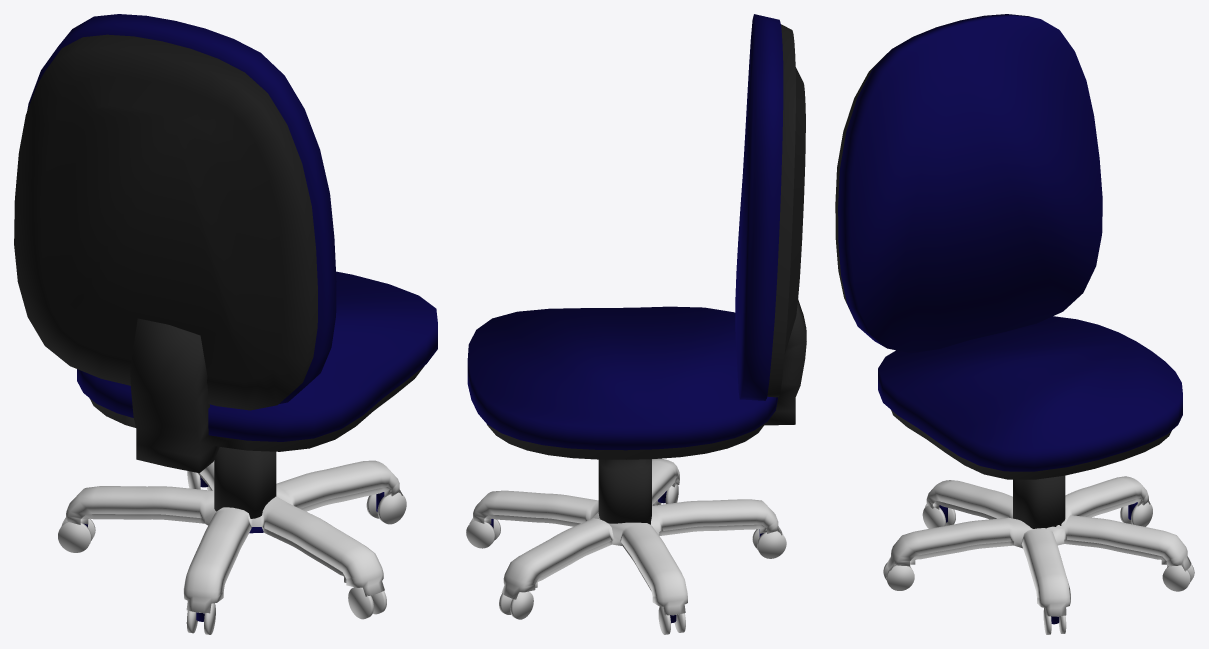
Rendered from Blue Wheelie Chair.fbx.
3 renders of one model, left to right at view 1: azimuth 30°, elevation 25°; view 2: azimuth 150°, elevation 25°; view 3: azimuth 270°, elevation 25°, orthographic. The views are drawn at different scales.
Parts seen in each view (by area): view 1: Wheelie Chair.012; view 2: Wheelie Chair.012; view 3: Wheelie Chair.012.
Part boxes in pixels (x1,y1,x2,y2): Wheelie Chair.012: (14,14,437,634); Wheelie Chair.012: (466,14,806,634); Wheelie Chair.012: (835,14,1194,634).
Bounding box in the file's own units: 50.21 × 75.71 × 48.99.
